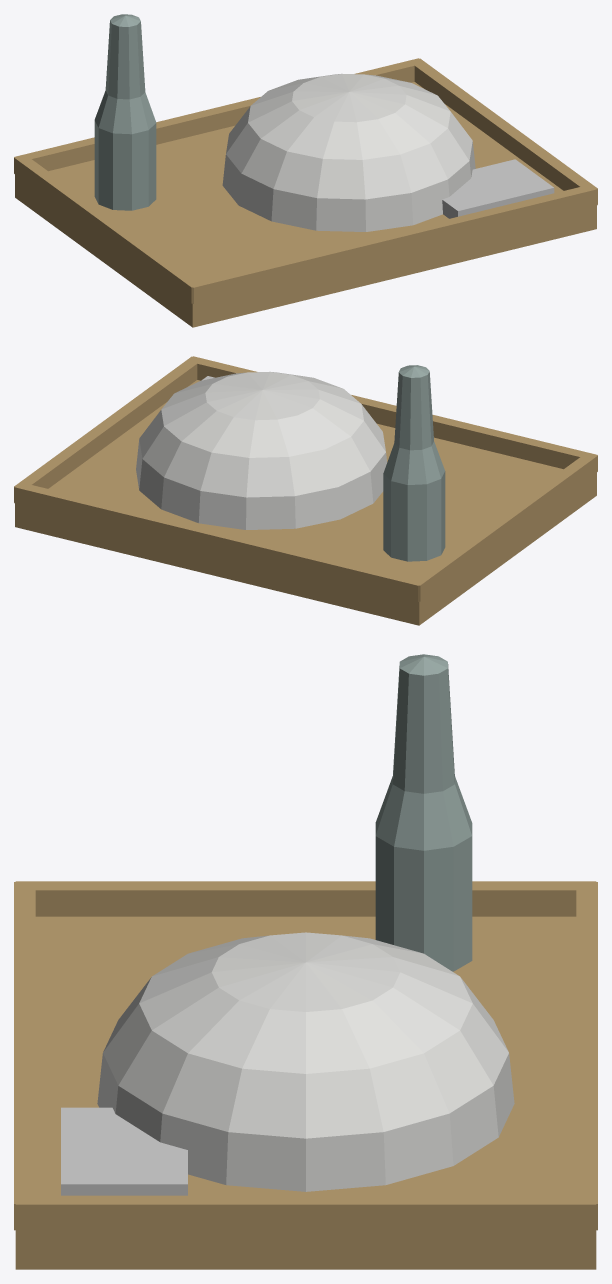
File: corridor_service_tray.glb
3 views of the same model, one above another, from view 1: azimuth 30°, elevation 25°; view 2: azimuth 150°, elevation 25°; view 3: azimuth 270°, elevation 25° (orthographic). The views are drawn at different scales.
Parts seen in each view (by area): view 1: corridor_service_tray; view 2: corridor_service_tray; view 3: corridor_service_tray.
Boxes of the visible parts, <box> form: corridor_service_tray: <box>14,14,597,327</box>; corridor_service_tray: <box>14,356,597,625</box>; corridor_service_tray: <box>14,654,597,1269</box>.
Bounding box in the file's own units: 0.422 × 0.205 × 0.322.
